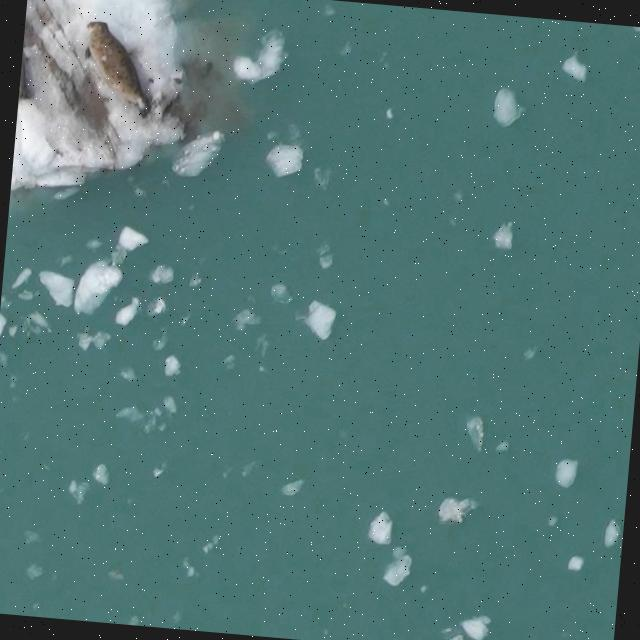seal: (71, 12, 168, 126)
